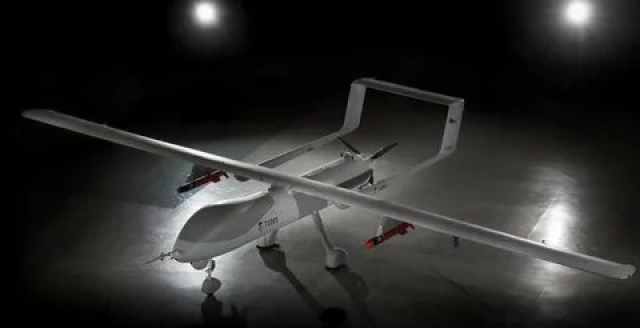military drone: (20, 76, 635, 296)
